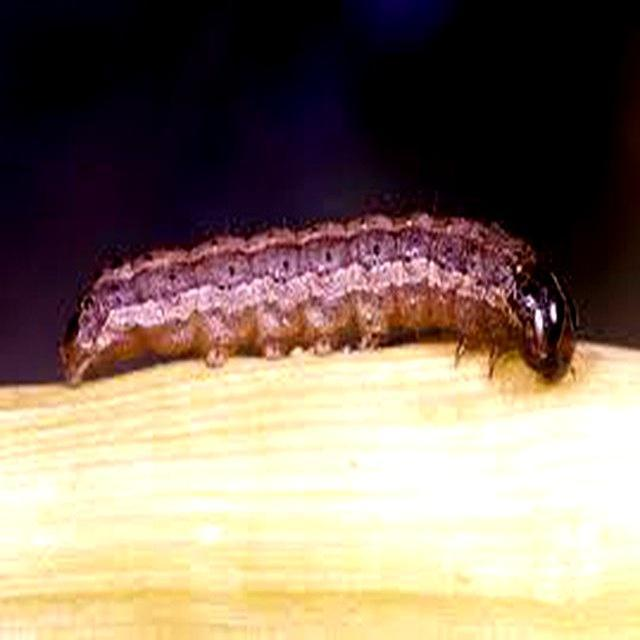gusano_cogollero: (55, 192, 592, 390)
